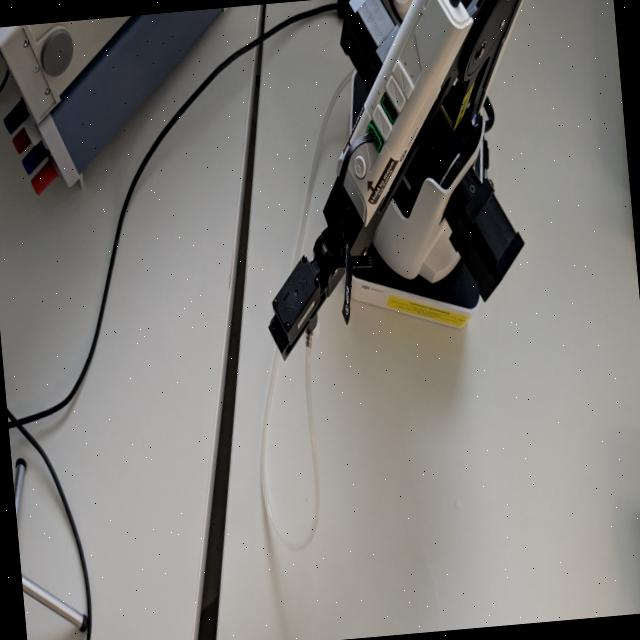Robot-end-effector-HF8z: (259, 246, 333, 364)
